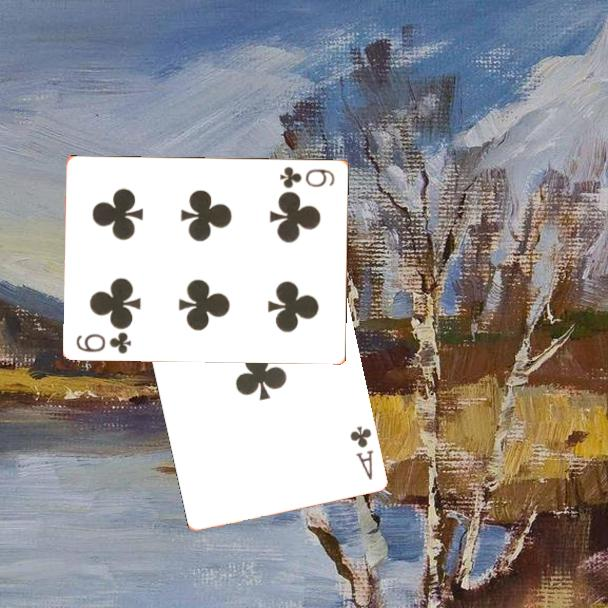c01: (346, 422, 376, 482)
c06: (277, 163, 338, 191), (73, 329, 134, 356)
